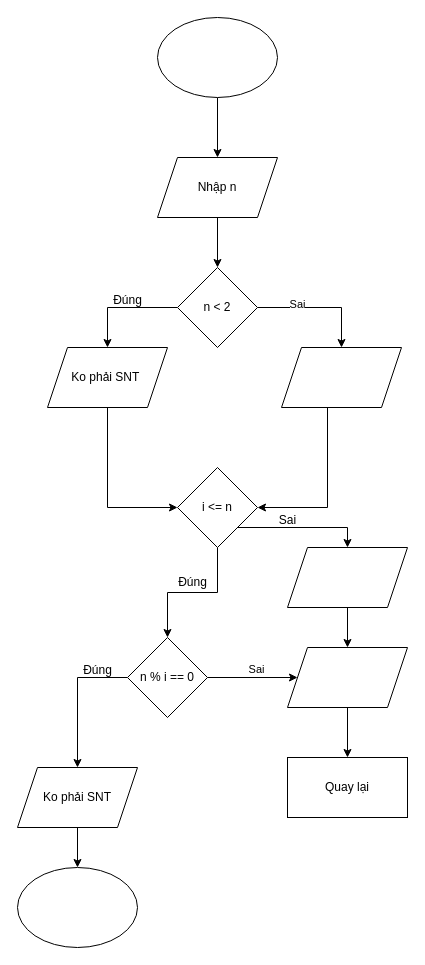
This 425x965 diagram has some shape labels left out. The shapes that lost their labels are listed below. From the top down, each one's centre as x and y in pixels, then its label:
the point at 217,57: Bắt đầu
the point at 341,377: i = 2
the point at 347,577: Là SNT
the point at 347,677: i = i + 1
